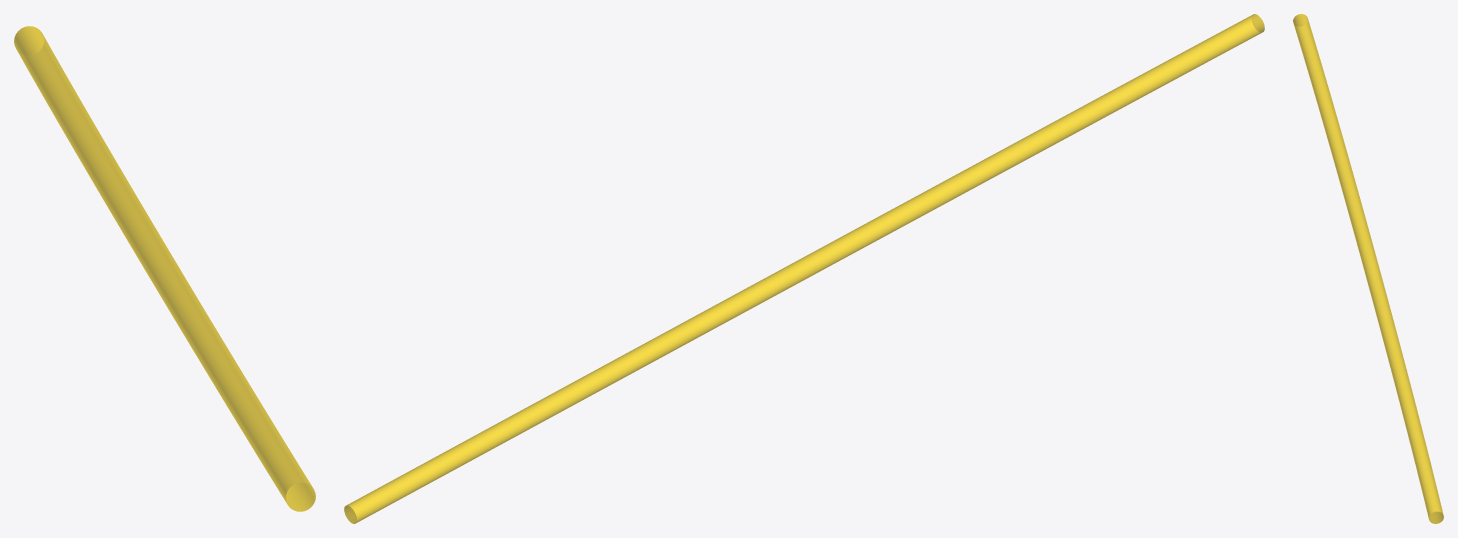
Rendered from Event_84804159_track_53.fbx.
3 renders of one model, left to right at view 1: azimuth 90°, elevation 25°; view 2: azimuth 210°, elevation 25°; view 3: azimuth 270°, elevation 25°, orthographic. The views are drawn at different scales.
Parts seen in each view (by area): view 1: Model; view 2: Model; view 3: Model.
Part boxes in pixels (left/top/right/bottom): Model: left=14, top=26, right=315, bottom=511; Model: left=344, top=14, right=1264, bottom=523; Model: left=1293, top=14, right=1443, bottom=523.
Size of the model in its own units: 2.25 by 0.428 by 0.3949.
